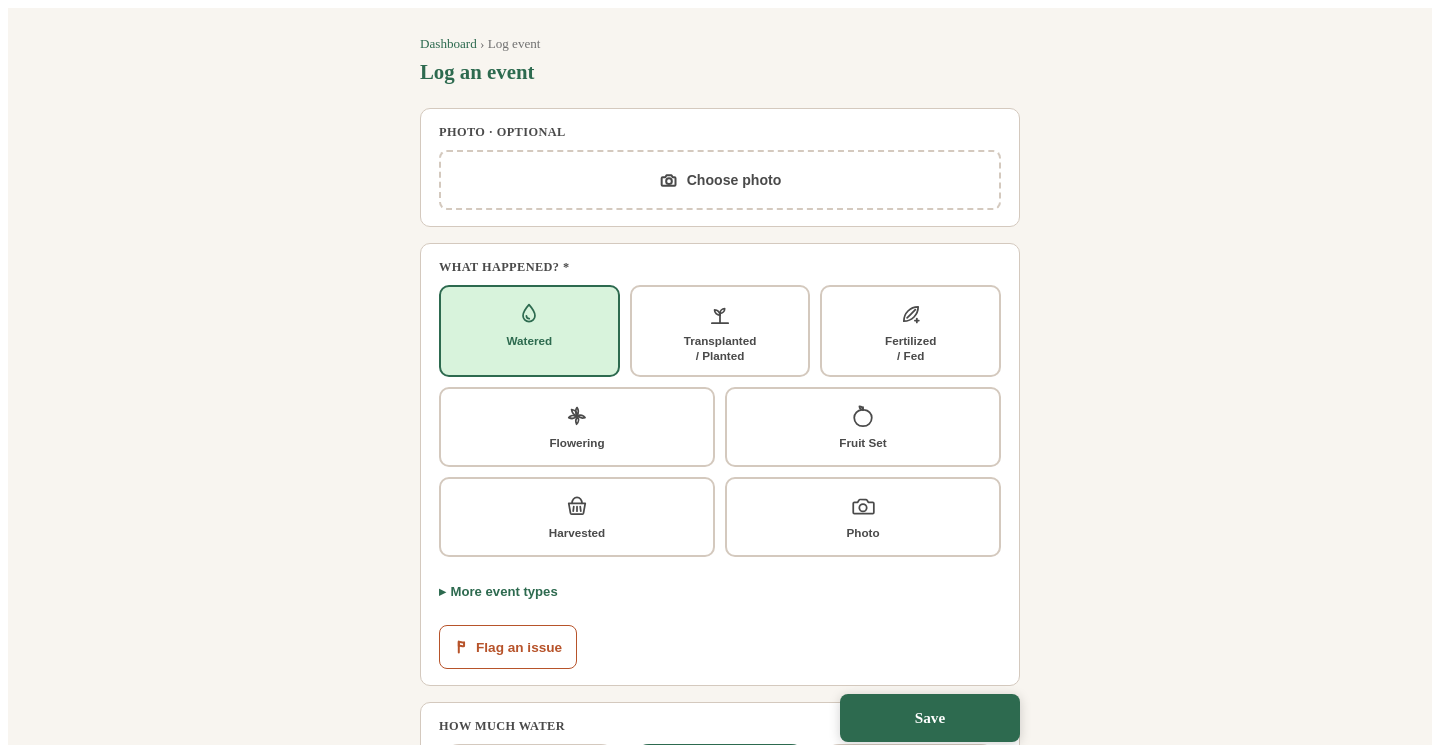
Test: EventNew — sticky planting demoted to ranking (BUG-LOGTARGETREQ-001, supersedes the V4-LOGTARGET-001 value seed) › INVARIANT: a remembered planting with no remembered project is never seeded — no POST can carry a plant without a project
This screenshot has width=1440, height=745.
// And the submit gate blocks a project-less POST outright.
Click the button "Save" at [930, 718], box [840,694,1020,742]
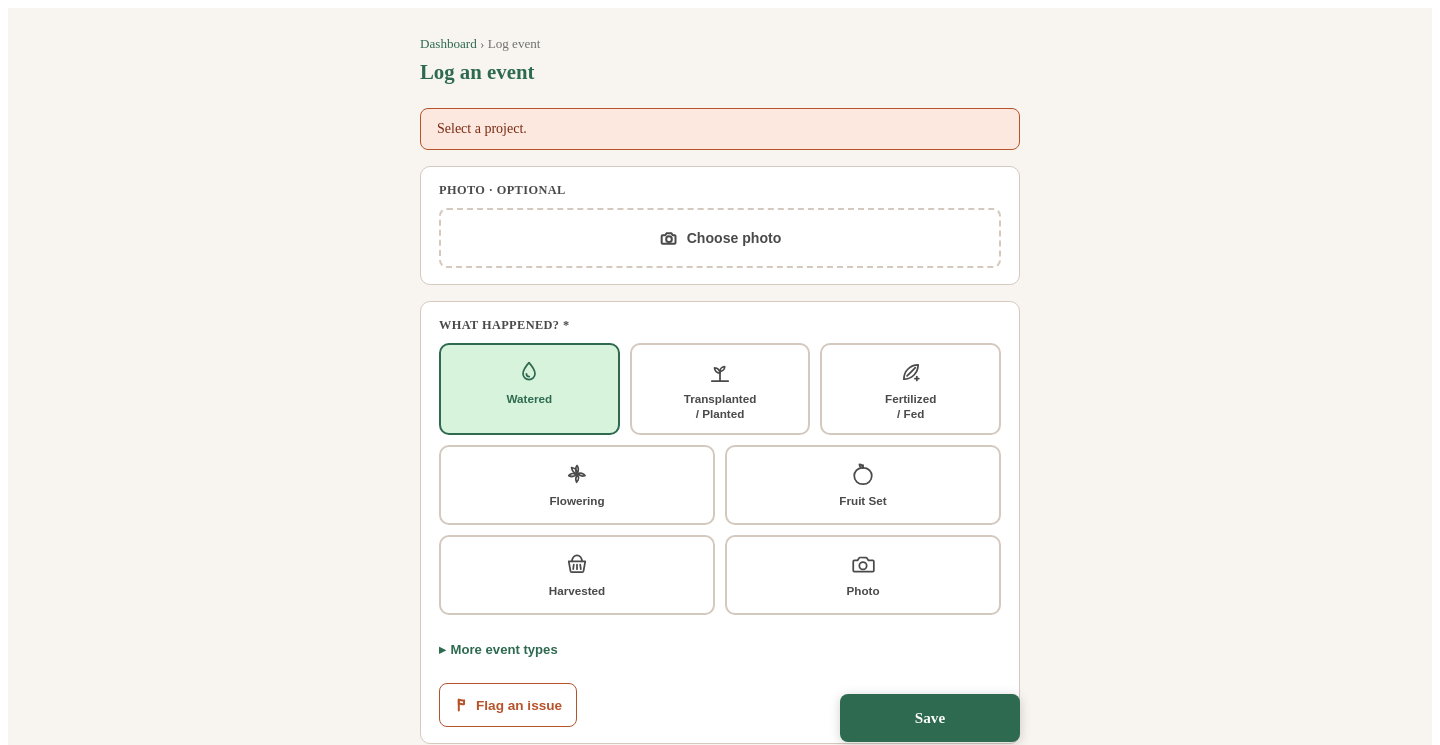
Check: the text "Select a project." is shown, box [420,108,1020,150]
